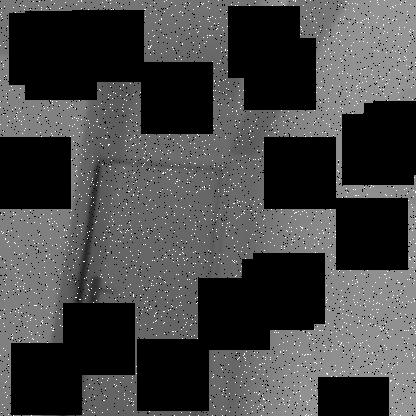Porte: (52, 154, 234, 415)
